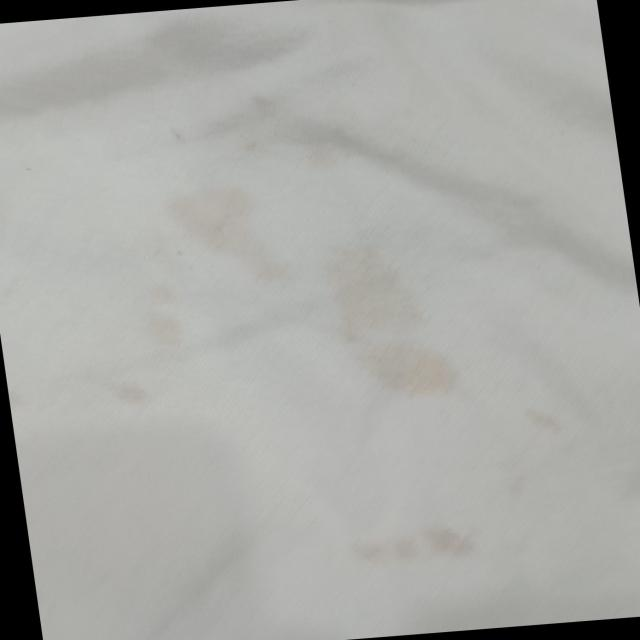stain: (318, 227, 474, 402), (158, 172, 312, 286), (338, 519, 490, 568), (100, 374, 167, 412), (142, 307, 190, 354), (508, 404, 568, 438)
